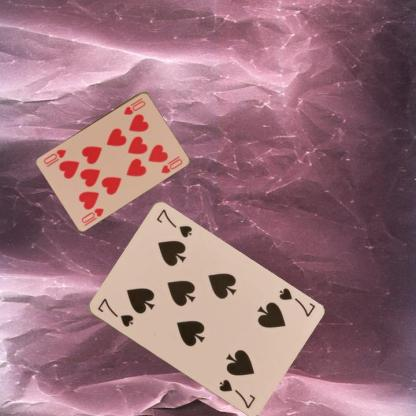10h: (121, 95, 147, 116), (79, 205, 105, 224)
7s: (94, 295, 135, 329), (276, 285, 316, 318)
